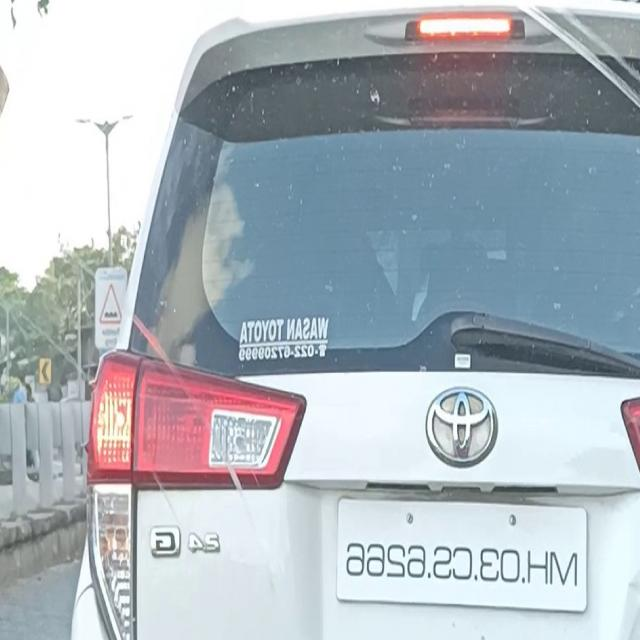license_plate: (330, 497, 594, 616)
